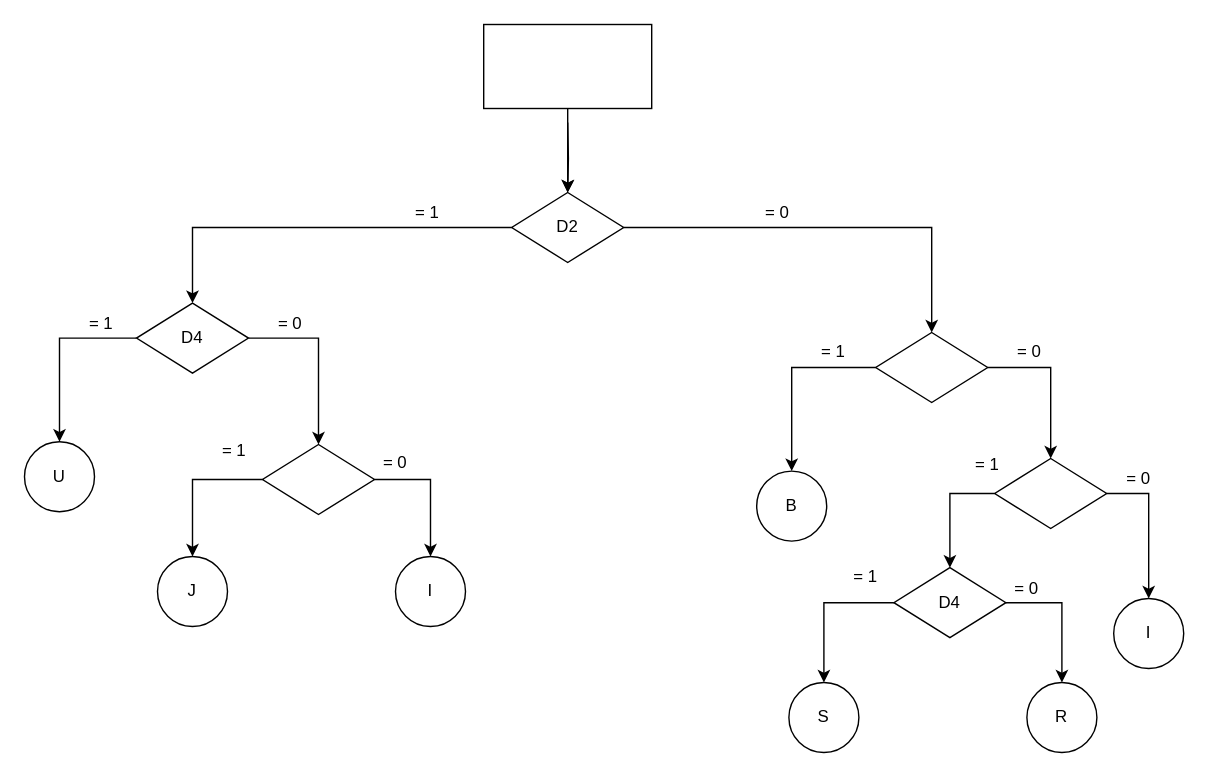
The diagram is 1208 pixels wide and 777 high, and some of its shapes have lost their labels. Here are the shapes that lost their labels. From the top down, the centre of each, then its label:
(567,65): Decode IR(0-6)
(931,366): D6
(317,478): D3
(1050,492): D5
